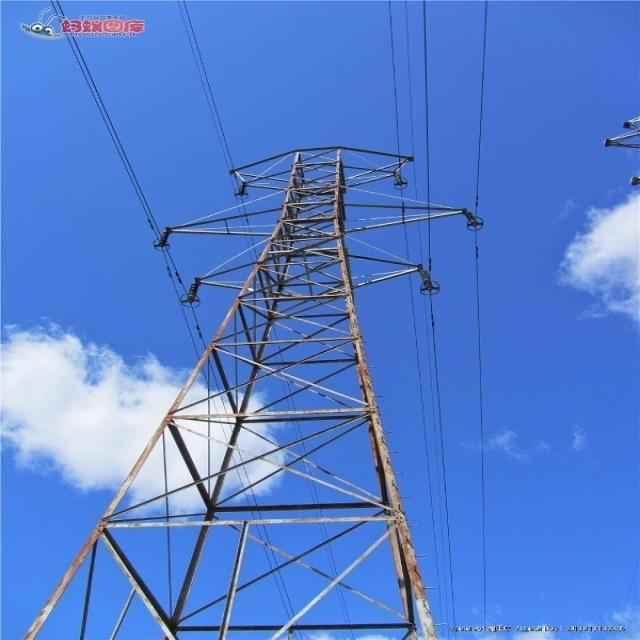non-critical vegetation: (106, 152, 464, 631)
